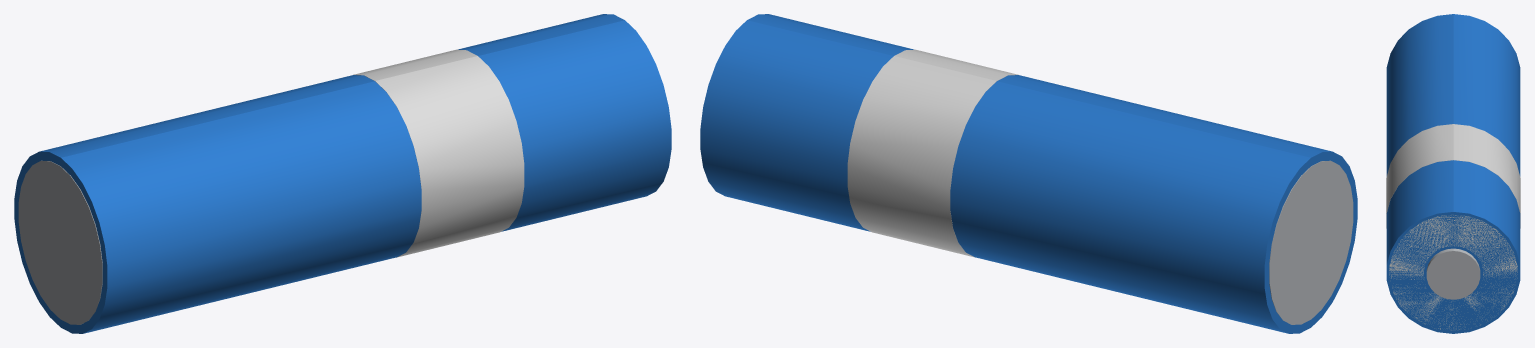
File: samsung-35e-18650.glb
3 views of the same model, side by side, from view 1: azimuth 30°, elevation 25°; view 2: azimuth 150°, elevation 25°; view 3: azimuth 270°, elevation 25° (orthographic). The views are drawn at different scales.
Visible parts, largest first — view 1: body, band, negative_end; view 2: body, band, negative_end; view 3: body, insulator, band, positive_cap.
Part boxes in pixels (box(x1,y1,x2,y2)): body: box(14, 14, 671, 333); band: box(353, 49, 524, 257); negative_end: box(18, 160, 102, 324); body: box(700, 14, 1357, 333); band: box(847, 49, 1018, 257); negative_end: box(1269, 160, 1353, 324); body: box(1386, 14, 1520, 333); insulator: box(1389, 215, 1517, 330); band: box(1386, 124, 1520, 228); positive_cap: box(1426, 248, 1480, 299).
Size of the model in its own units: 65.3 by 18.59 by 18.45.
